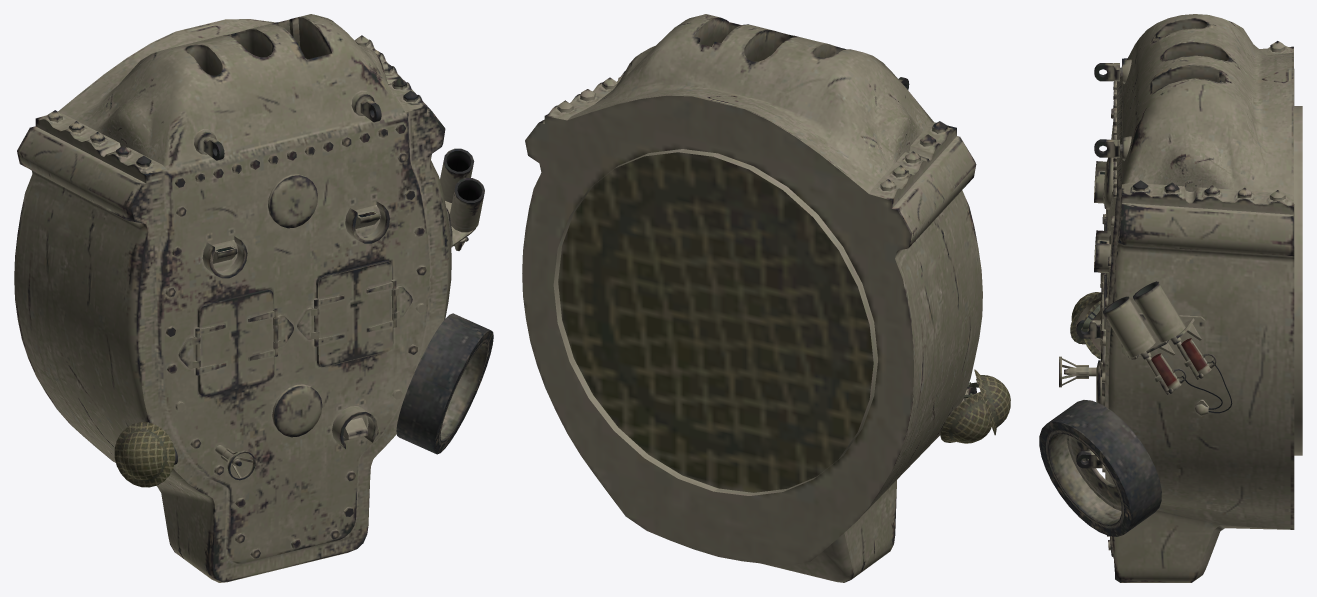
Rendered from Turret_01.glb.
3 views of the same model, side by side, from view 1: azimuth 30°, elevation 25°; view 2: azimuth 150°, elevation 25°; view 3: azimuth 270°, elevation 25° (orthographic). The views are drawn at different scales.
Visible parts, largest first — view 1: set_0_group_0; view 2: set_0_group_0; view 3: set_0_group_0.
Part boxes in pixels (left/top/right/bottom): set_0_group_0: left=14, top=14, right=493, bottom=582; set_0_group_0: left=522, top=14, right=1010, bottom=582; set_0_group_0: left=1039, top=14, right=1302, bottom=582.
Bounding box in the file's own units: 1.86 × 2.25 × 1.07.
Materials: 1 (1 with a texture image).
